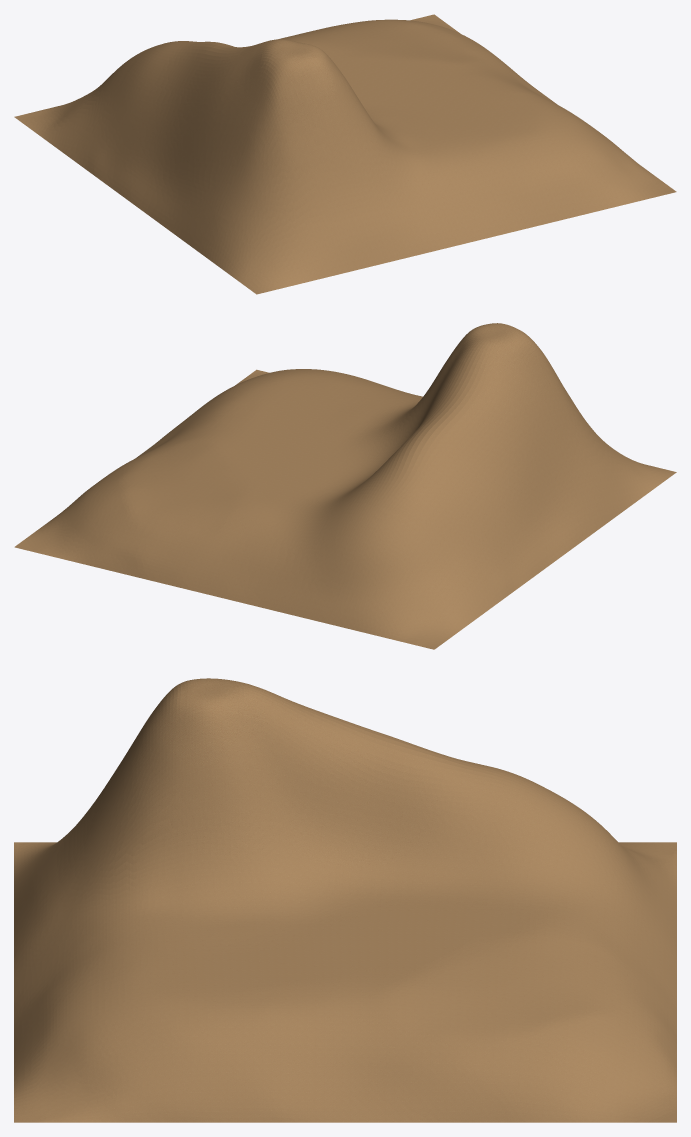
Rendered from Terrain.gltf.
The picture shows the model from 3 angles, top to bottom: view 1: azimuth 30°, elevation 25°; view 2: azimuth 150°, elevation 25°; view 3: azimuth 270°, elevation 25°; orthographic projection. The views are drawn at different scales.
Parts seen in each view (by area): view 1: Terrain-col; view 2: Terrain-col; view 3: Terrain-col.
Part boxes in pixels (x1,y1,x2,y2): Terrain-col: (14,14,676,294); Terrain-col: (14,323,676,649); Terrain-col: (14,678,676,1122).
Bounding box in the file's own units: 200 × 75.6 × 200.
Materials: 1 (1 with a texture image).
